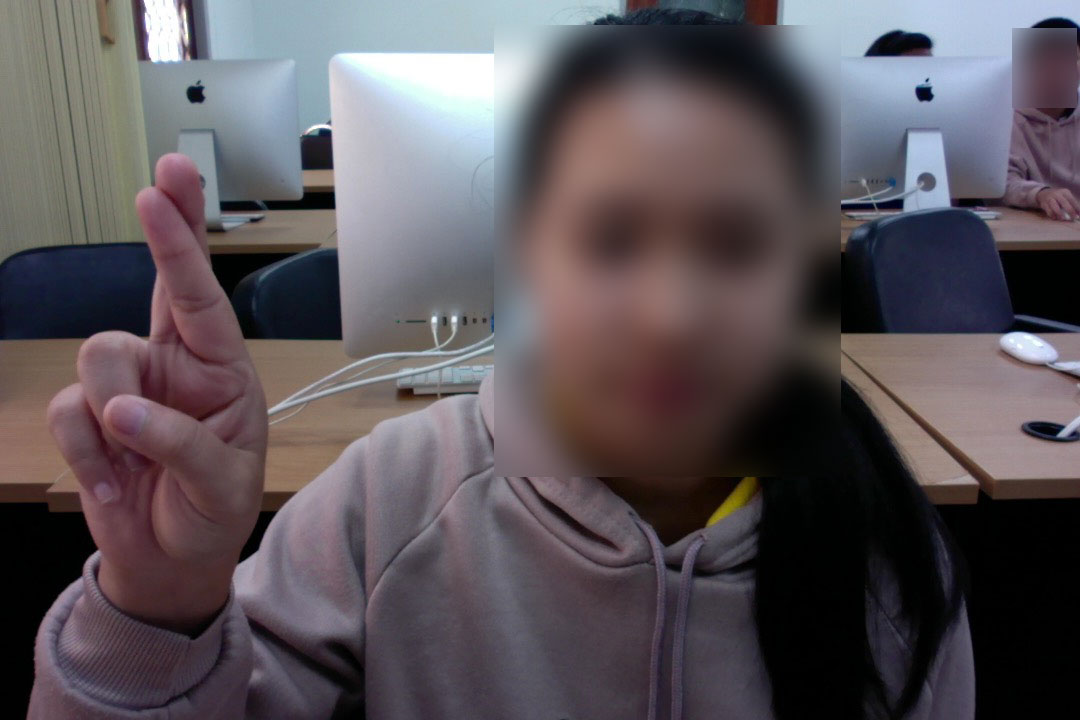rao: (43, 146, 281, 569)
